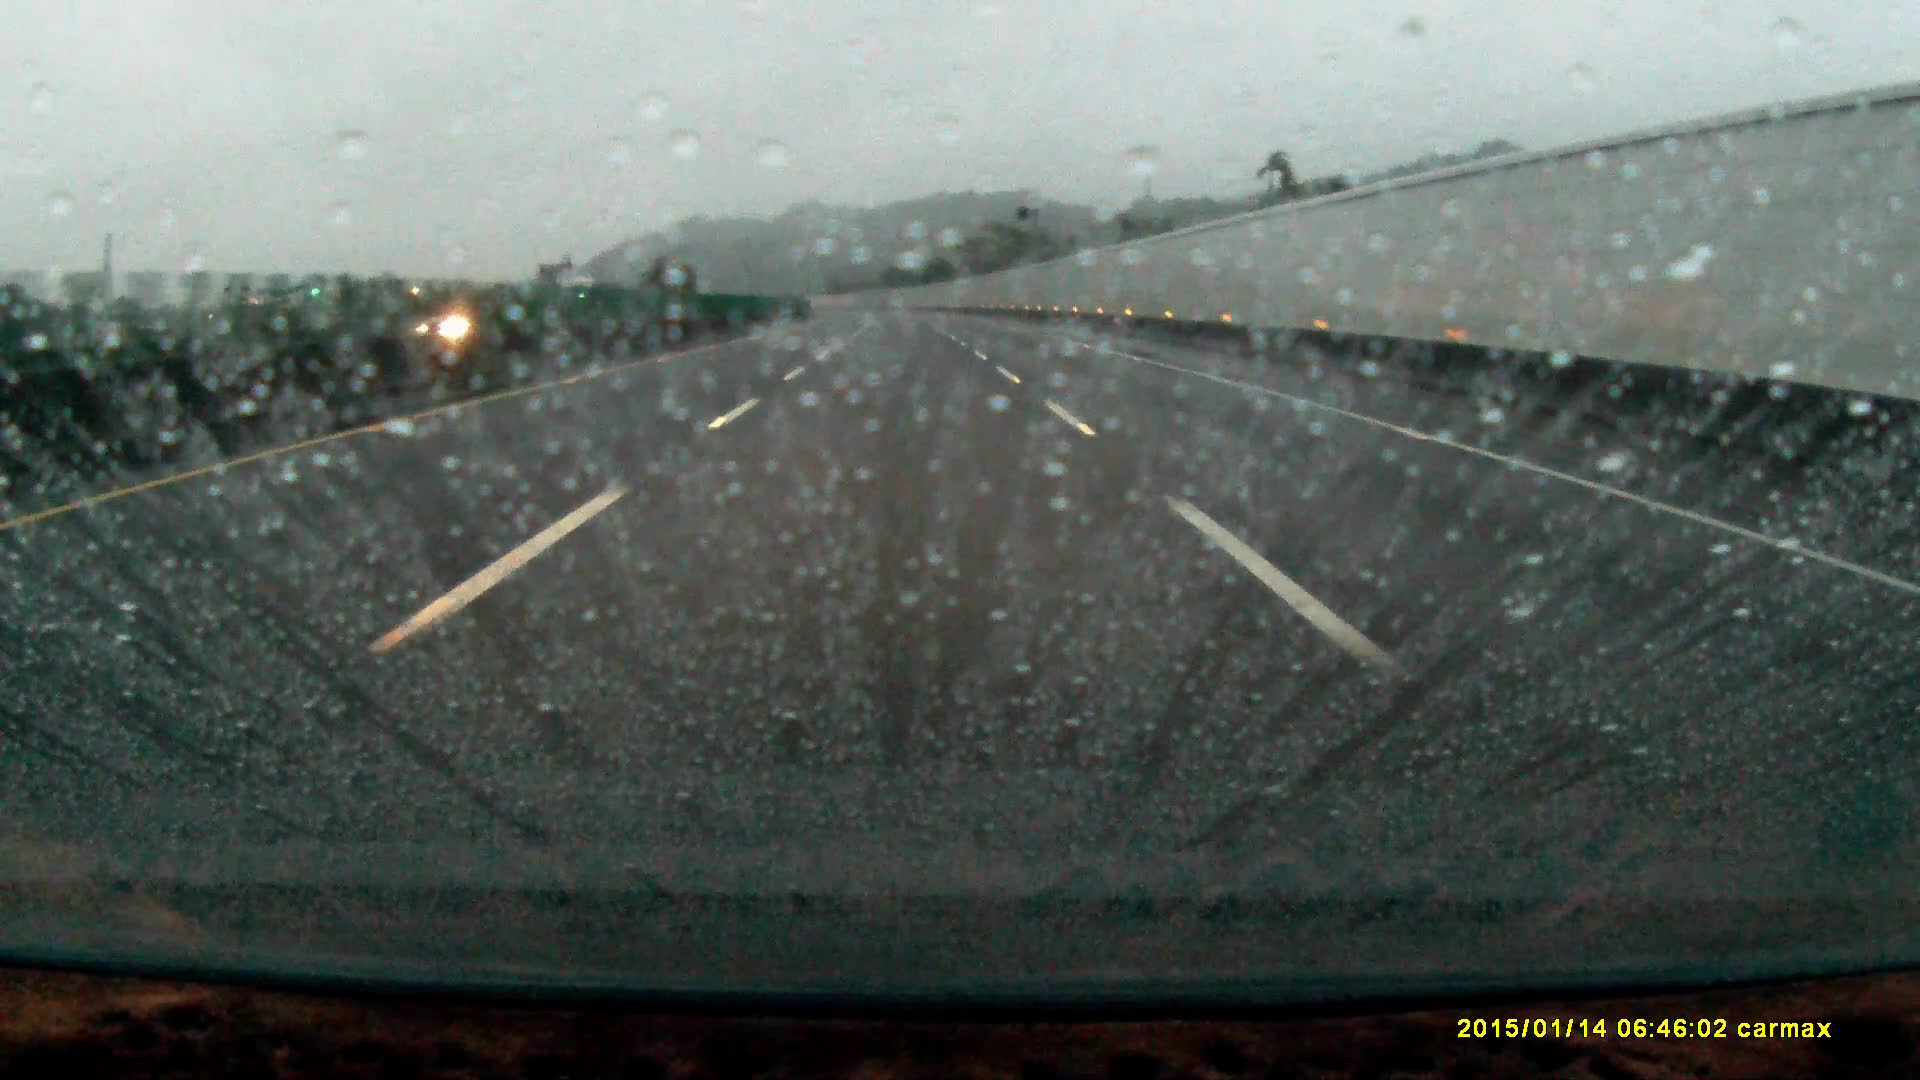vehicle: (411, 302, 495, 340)
